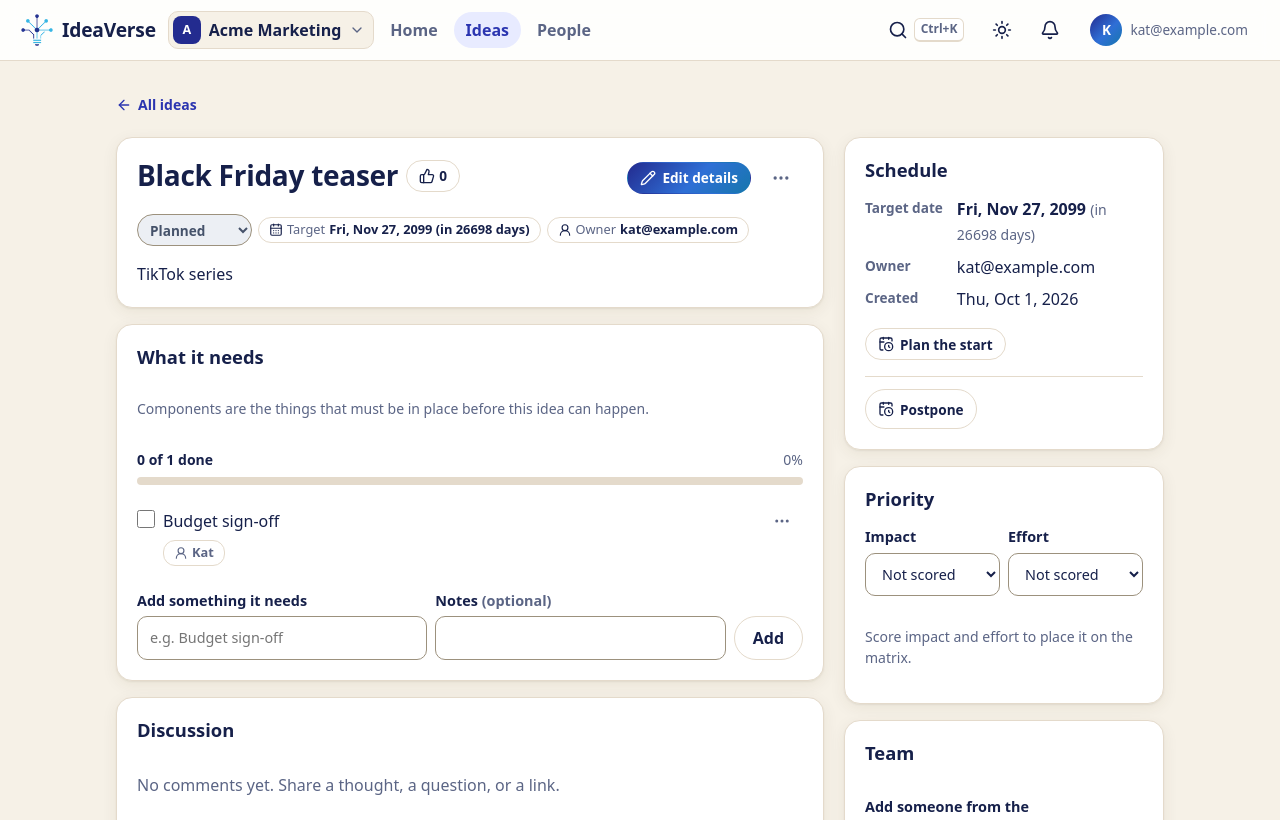
Test: Assignments › offers no Assign to me for a component already assigned to the signed-in user
Click the button named "More actions for Budget sign-off": (782,521) left=761, top=501, right=803, bottom=541
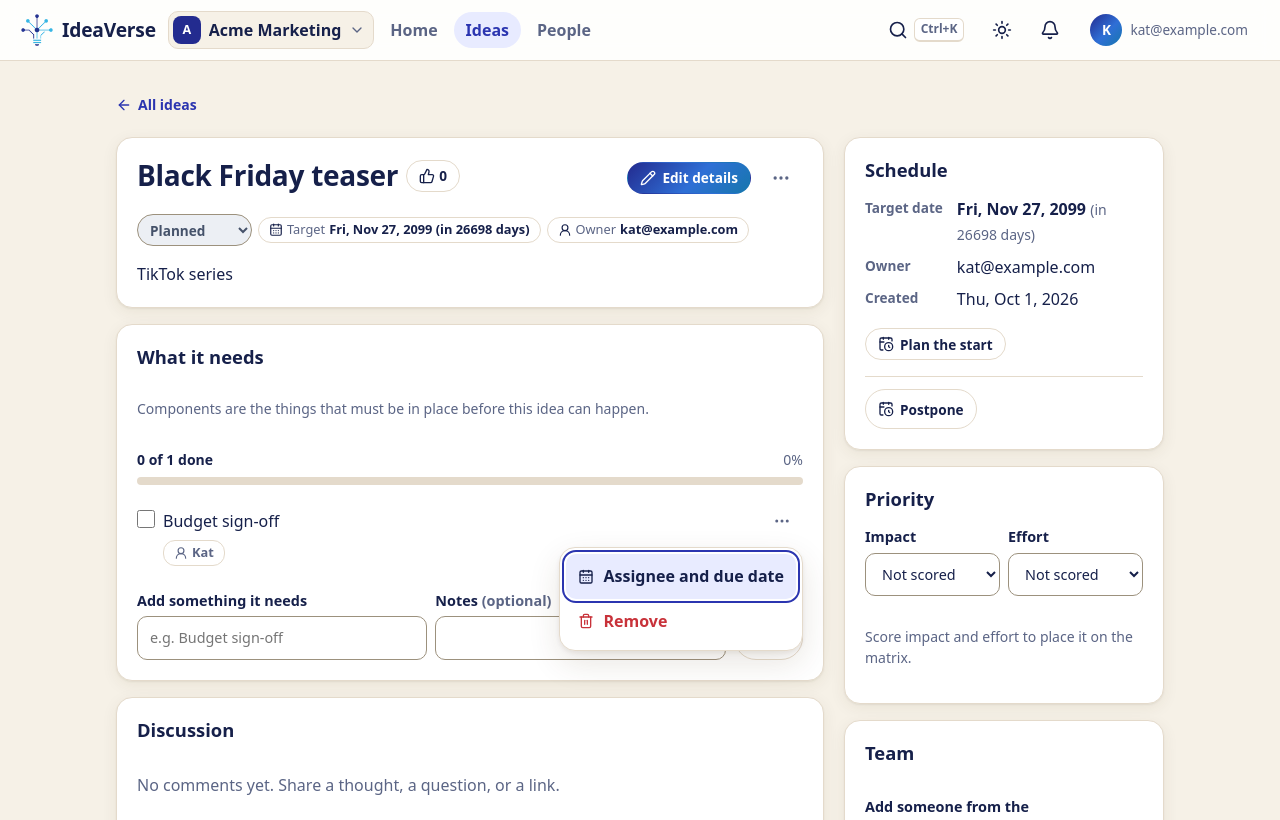
expect the menu item "Remove" is shown: met, box left=566, top=599, right=796, bottom=644
